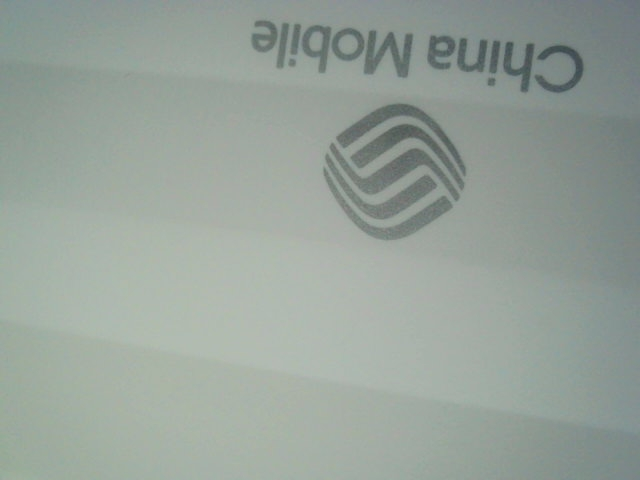ChinaMobile: (240, 5, 592, 243)
